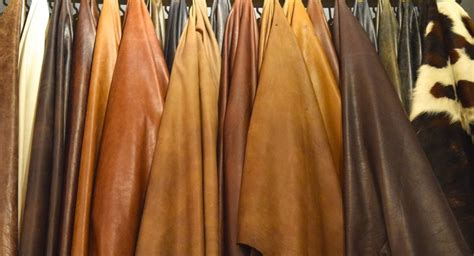cuero: (1, 3, 474, 256)
